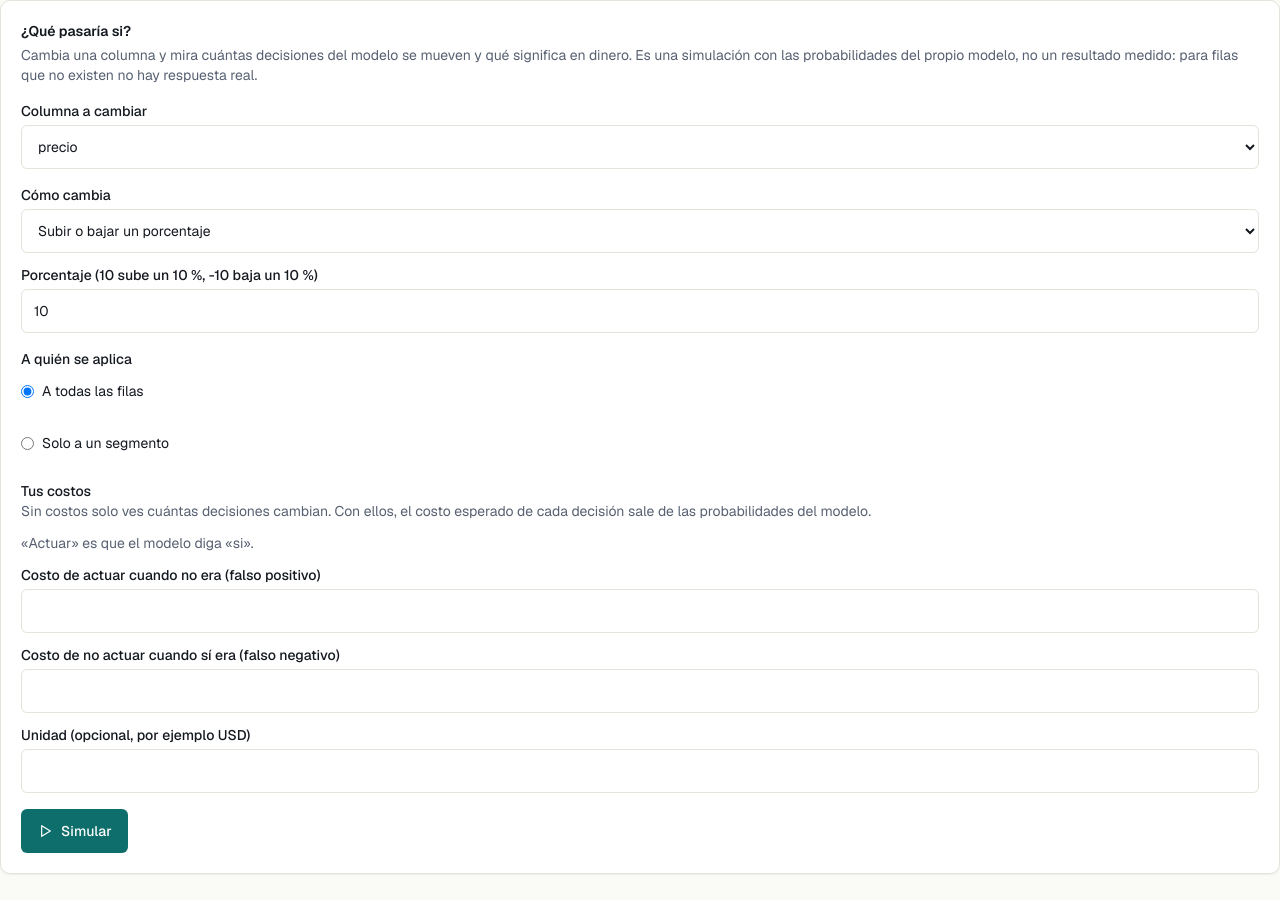
Test: el panel «¿Qué pasaría si?» › una respuesta rechazada por el lector se dice sin valores; el botón queda para reintentar
The image size is (1280, 900).
Click the button "Simular".
click(74, 831)  # box [21,809,128,853]
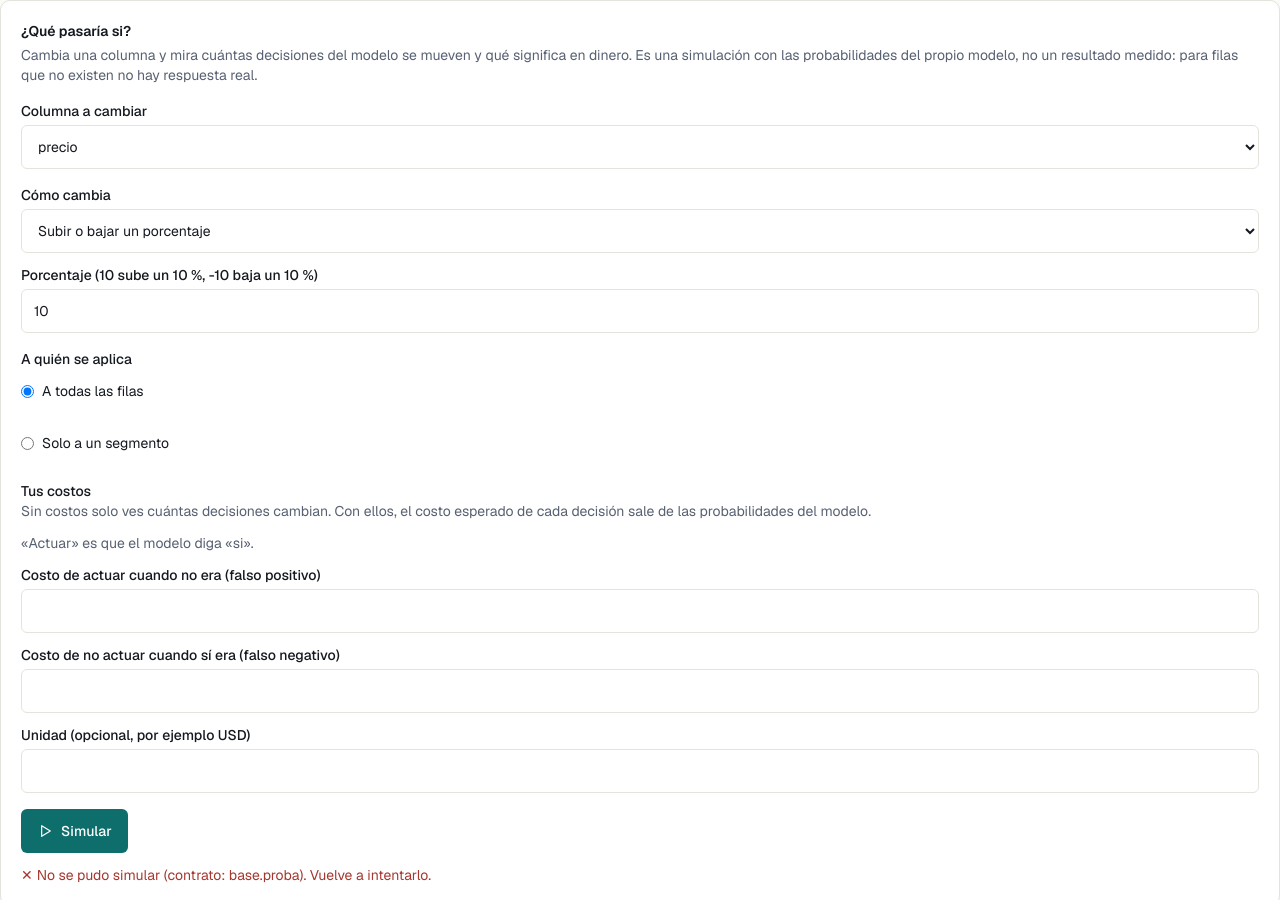
Now the message shows "contrato: base.proba", box [37,866,431,884]
